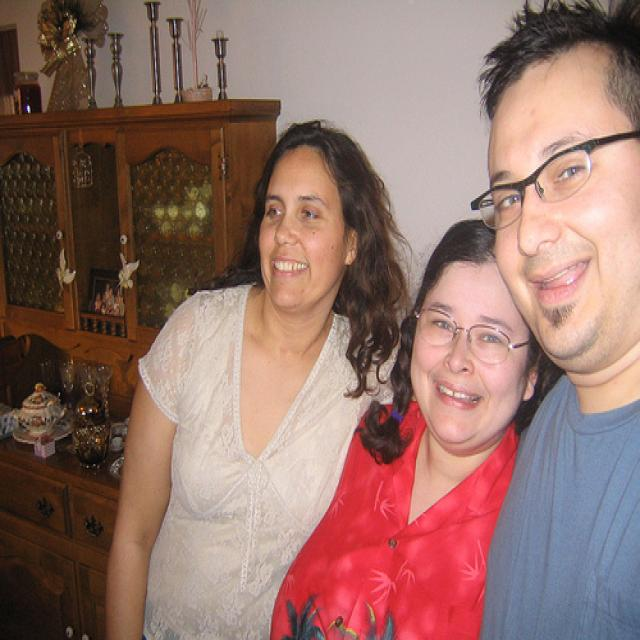person: (103, 119, 407, 639), (268, 216, 558, 639), (478, 5, 640, 640)
